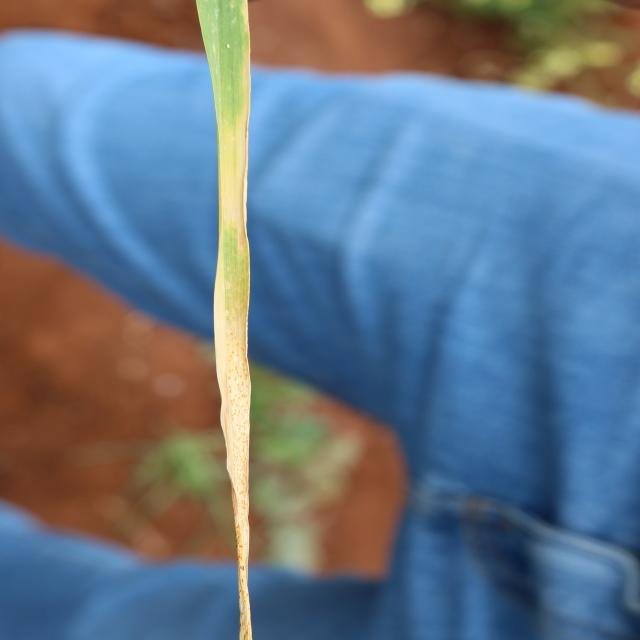Septoria: (200, 5, 263, 640)
